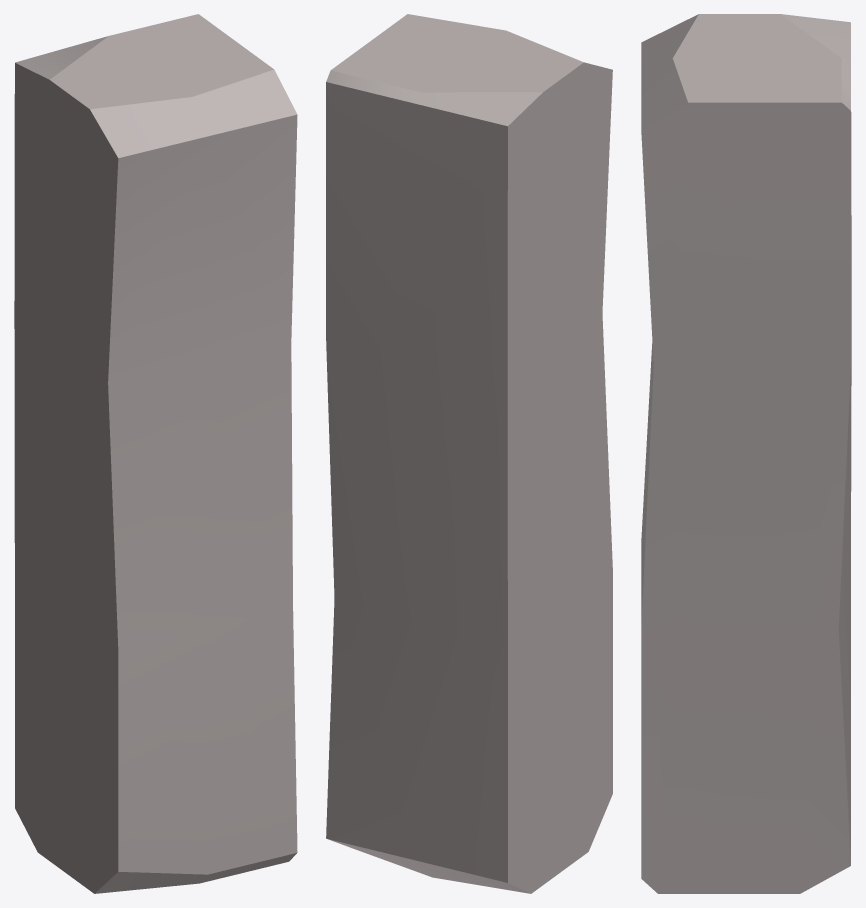
Rendered from StoneHenge_Stone2.fbx.
3 views of the same model, side by side, from view 1: azimuth 30°, elevation 25°; view 2: azimuth 150°, elevation 25°; view 3: azimuth 270°, elevation 25° (orthographic).
Visible parts, largest first — view 1: StoneHenge_Stone2; view 2: StoneHenge_Stone2; view 3: StoneHenge_Stone2.
Boxes of the visible parts, x1=… form: StoneHenge_Stone2: x1=14, y1=14, x2=297, y2=893; StoneHenge_Stone2: x1=326, y1=14, x2=612, y2=893; StoneHenge_Stone2: x1=641, y1=14, x2=851, y2=893.
Size of the model in its own units: 47.24 by 47.43 by 197.
